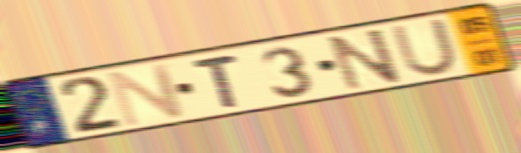2: (60, 75, 127, 137)
3: (260, 44, 315, 100)
N: (104, 60, 189, 129), (325, 26, 406, 93)
T: (189, 51, 243, 110)
U: (389, 16, 461, 79)
